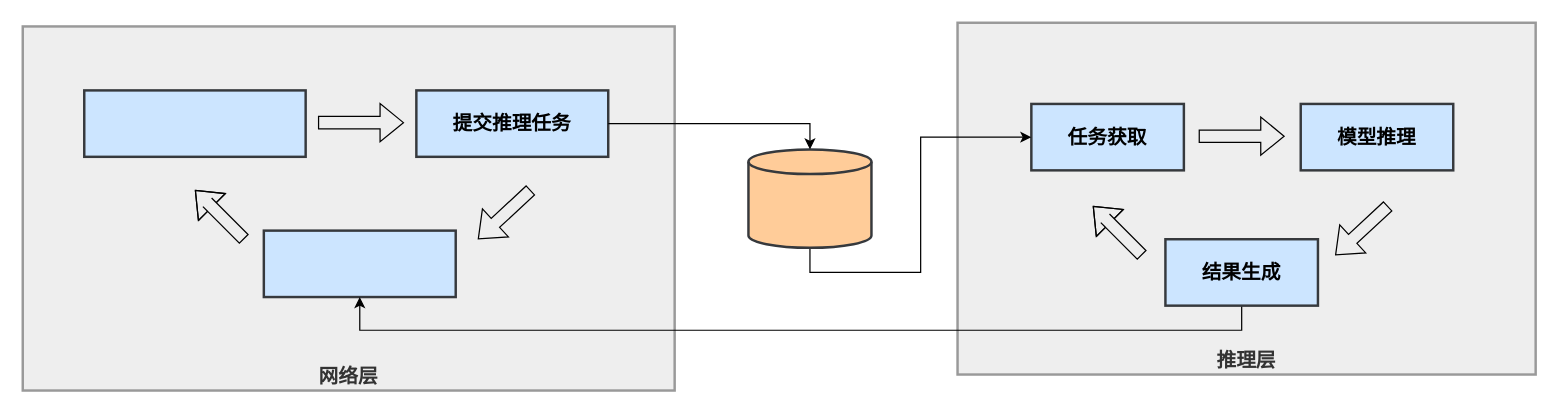
The diagram is 1557 pixels wide and 412 high, and some of its shapes have lost their labels. Each missing label, with the box of its shape:
任务队列: (747, 148, 872, 248)
响应结果返回: (262, 229, 456, 298)
请求接入与报文解析: (82, 89, 306, 157)
